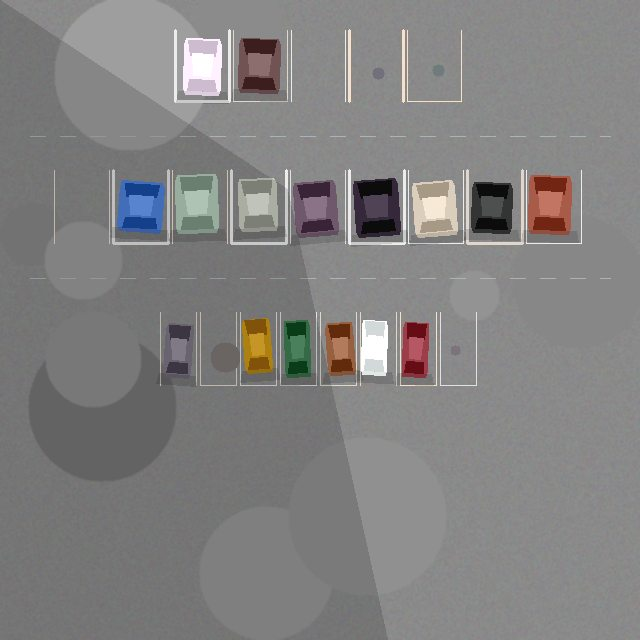space-empty: (54, 170, 109, 243), (291, 30, 345, 101), (349, 30, 403, 101), (407, 30, 461, 101), (200, 312, 236, 385), (440, 312, 476, 385)
space-occupied: (113, 170, 168, 243), (172, 170, 227, 243), (231, 170, 286, 243), (290, 170, 345, 243), (349, 170, 404, 243), (408, 170, 463, 243), (467, 170, 522, 243), (526, 170, 581, 243), (175, 30, 229, 101), (233, 30, 287, 101), (160, 312, 196, 385), (240, 312, 276, 385), (280, 312, 316, 385), (320, 312, 356, 385), (360, 312, 396, 385), (400, 312, 436, 385)
